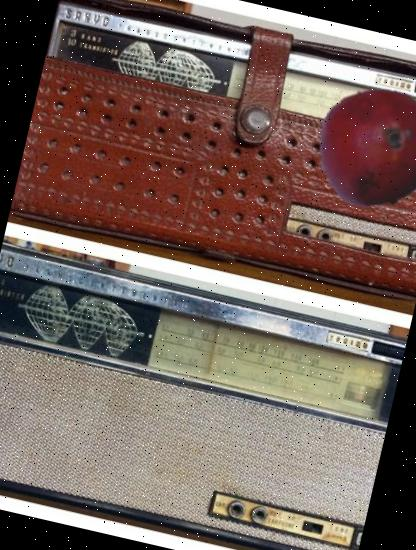Pomegranate: (305, 74, 416, 217)
